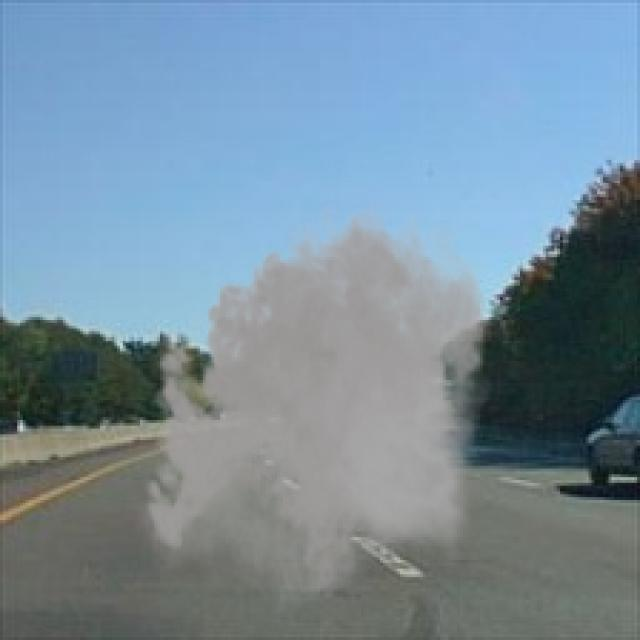smoke: (134, 194, 500, 617)
